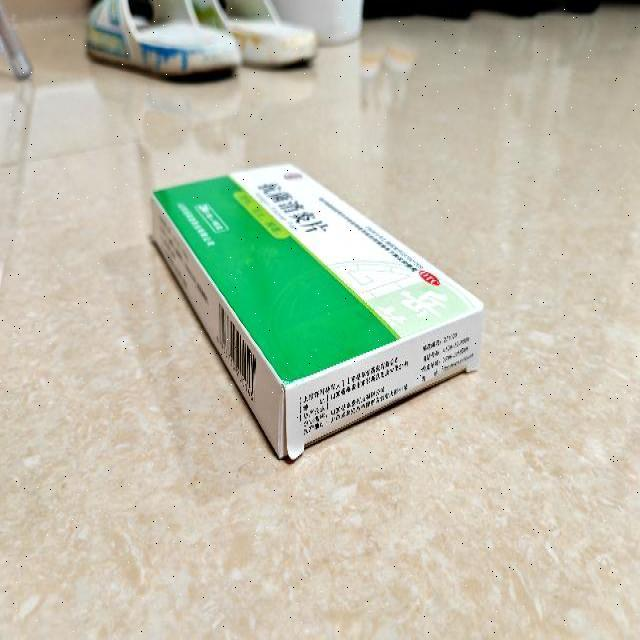box: (153, 162, 485, 462)
